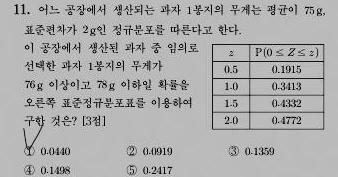choice: (21, 136, 36, 158)
not-choice: (125, 164, 138, 177), (227, 144, 239, 158), (22, 164, 36, 176), (125, 144, 137, 157)
